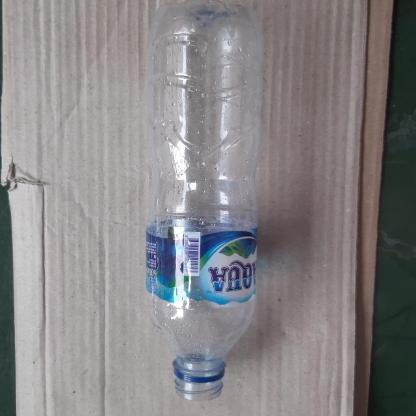Plastic Bottle: (146, 0, 266, 402)
